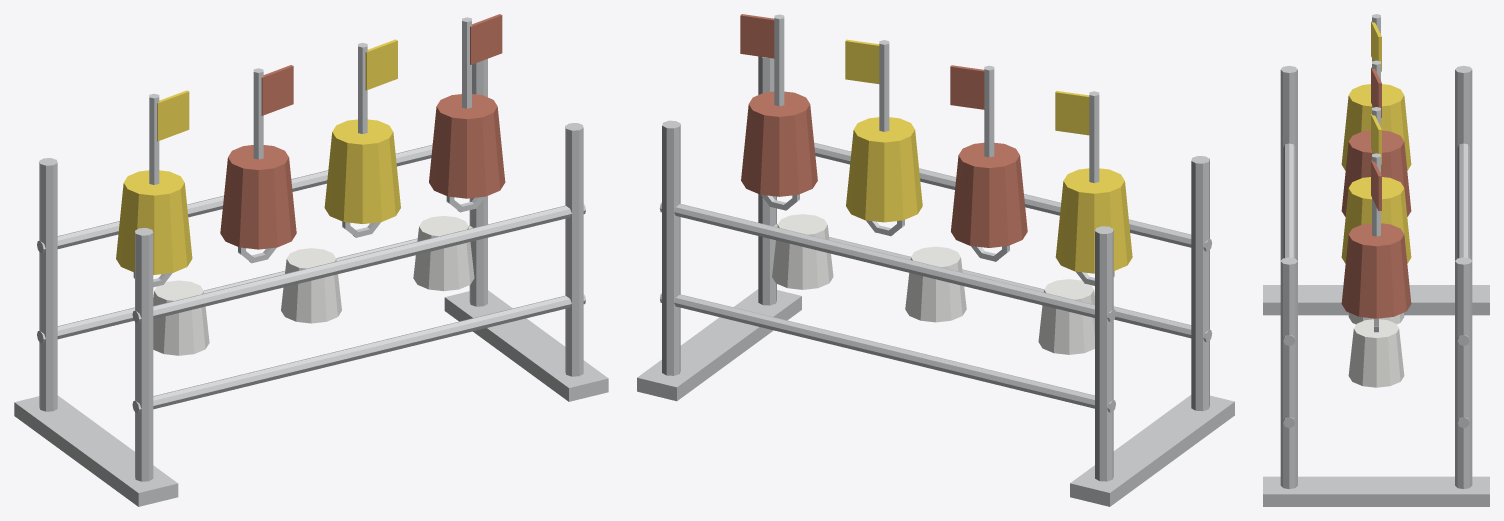
Rendered from fish-market-and-trawler-quay-fish-market-and-trawler-q-89b3d64d__37312.glb.
3 renders of one model, left to right at view 1: azimuth 30°, elevation 25°; view 2: azimuth 150°, elevation 25°; view 3: azimuth 270°, elevation 25°, orthographic. The views are drawn at different scales.
Visible parts, largest first — view 1: fish-market-and-trawler-quay-buoy-rack; view 2: fish-market-and-trawler-quay-buoy-rack; view 3: fish-market-and-trawler-quay-buoy-rack.
Boxes of the visible parts, x1,y1,x2,y2 form: fish-market-and-trawler-quay-buoy-rack: (14,14,608,506); fish-market-and-trawler-quay-buoy-rack: (637,14,1234,506); fish-market-and-trawler-quay-buoy-rack: (1263,14,1489,506).
Bounding box in the file's own units: 2.84 × 2 × 1.3.
